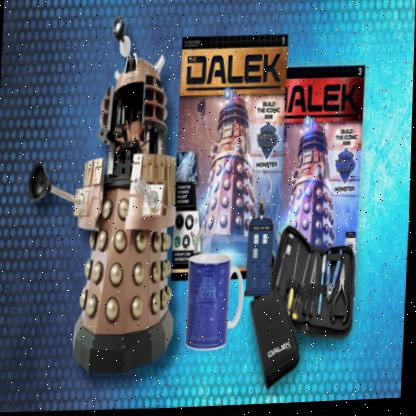dalek: (12, 3, 203, 381), (177, 74, 281, 267), (266, 112, 354, 263)
